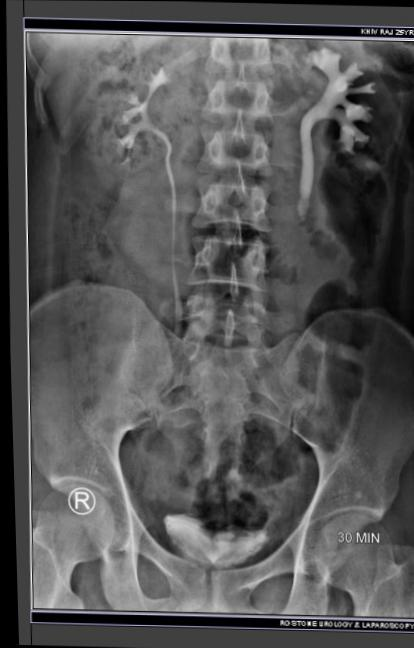bladder: (131, 504, 283, 599)
left kidney: (284, 25, 400, 182)
right kidney: (61, 37, 174, 188)
vertebrae: (189, 57, 274, 123)
